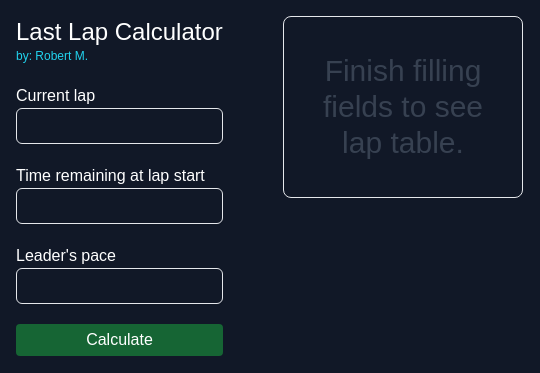
Test: Calculator › handles time inputs correctly
check when only one number is entered
Type "1" into the field with test id "leaderPaceInputID" at (120, 286), box top-left (16, 268), bottom-right (223, 304)
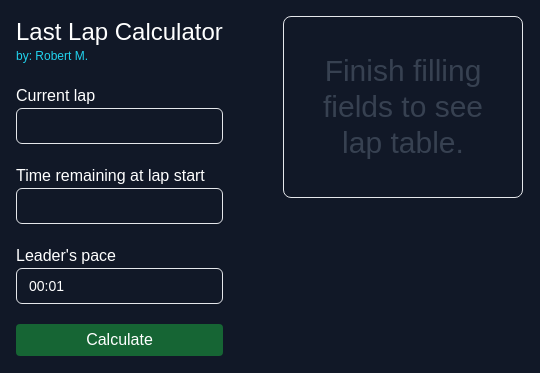
Expected: the field with test id "leaderPaceInputID" holds "00:01"
check when all numbers are entered
Replace the text in the field with test id "leaderPaceInputID" with "1234" at (120, 286), box top-left (16, 268), bottom-right (223, 304)
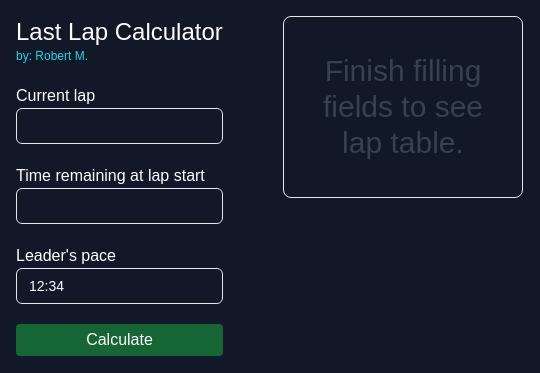
Expected: the field with test id "leaderPaceInputID" holds "12:34"
check when more than four numbers are entered
Replace the text in the field with test id "leaderPaceInputID" with "12345" at (120, 286), box top-left (16, 268), bottom-right (223, 304)
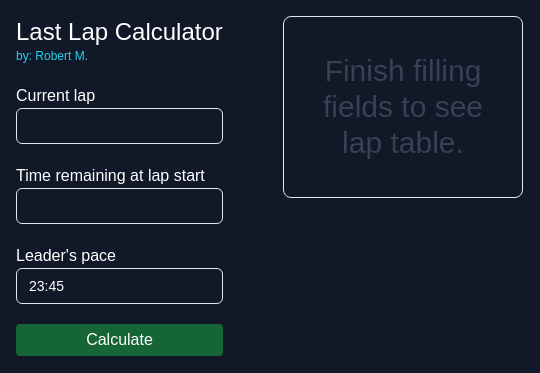
Expected: the field with test id "leaderPaceInputID" holds "23:45", top-left (16, 268), bottom-right (223, 304)
